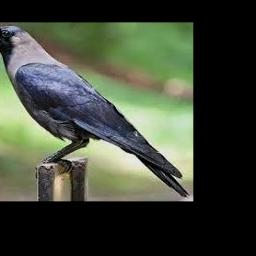Crow: (0, 26, 188, 198)
